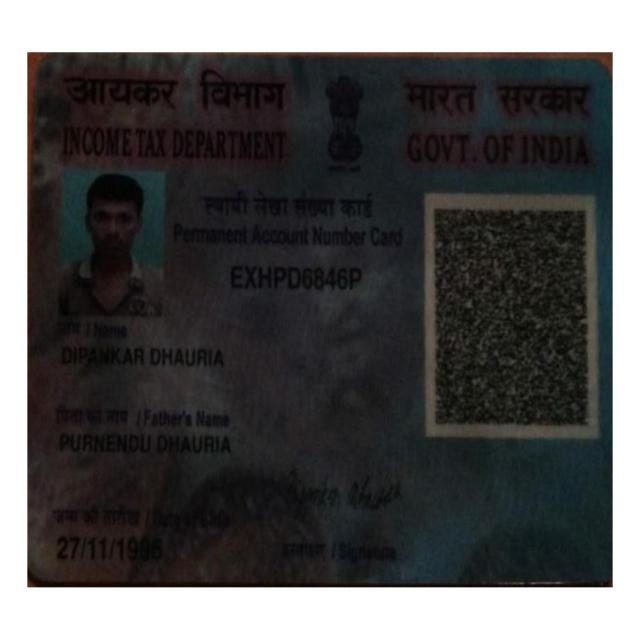pan_card: (35, 62, 611, 580)
